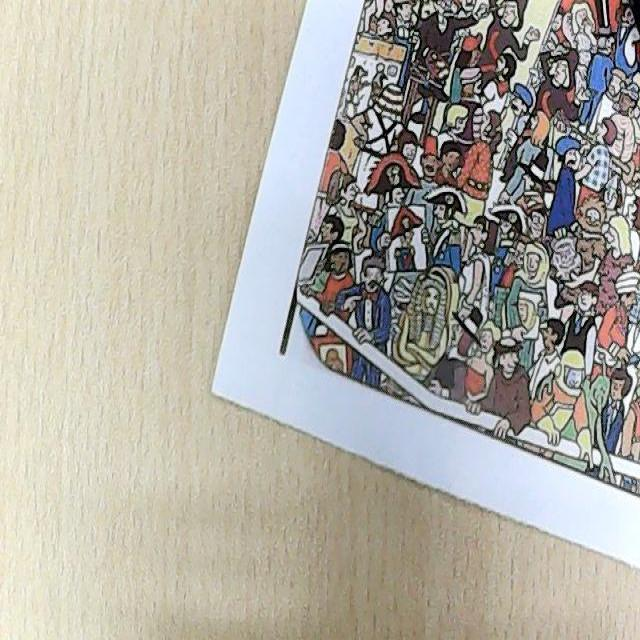waldo: (522, 191, 547, 244)
